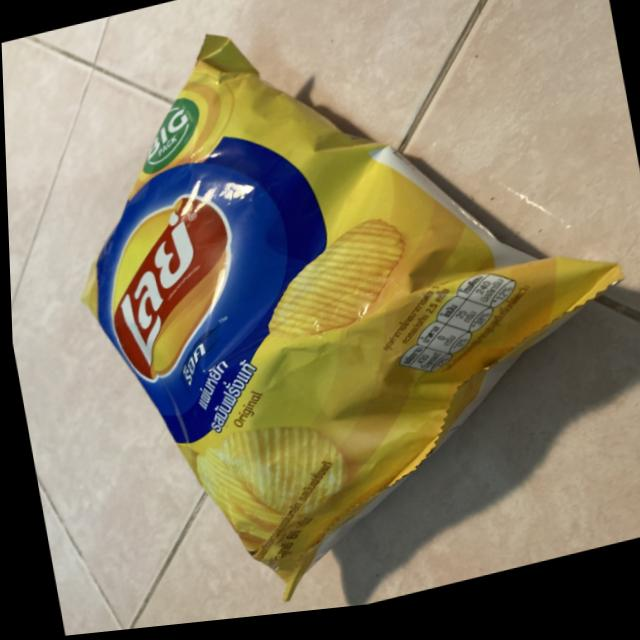LayYellow: (59, 0, 615, 610)
